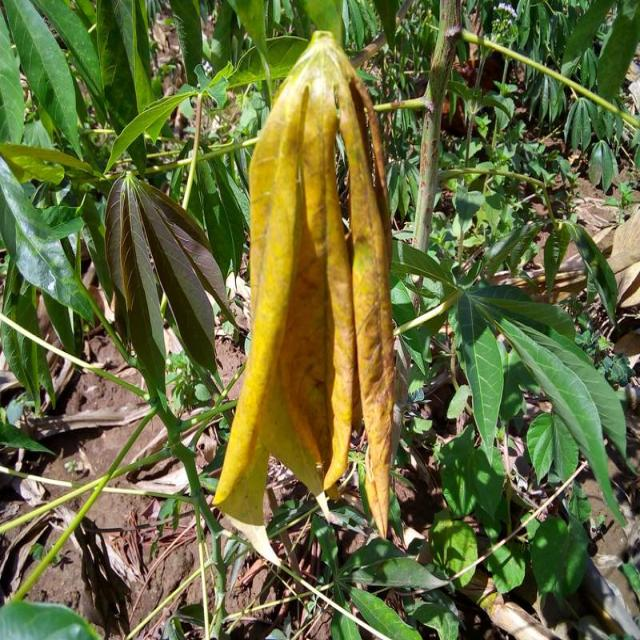cassava leaf: (211, 28, 396, 554), (102, 167, 232, 416)
